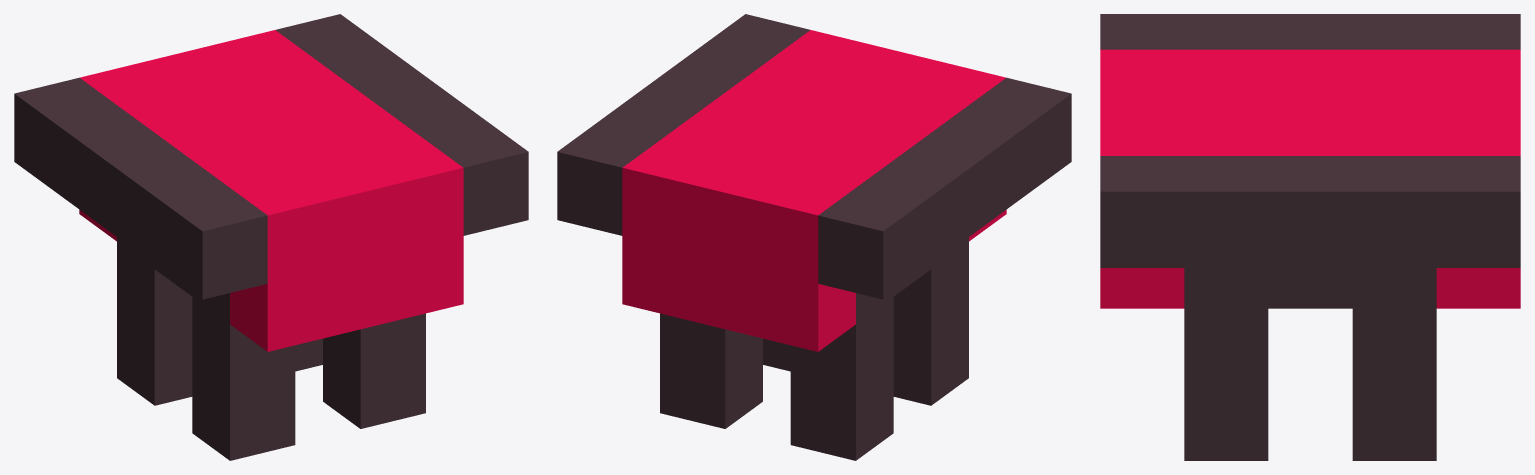
Rendered from small_bench_c_red.obj.
3 views of the same model, side by side, from view 1: azimuth 30°, elevation 25°; view 2: azimuth 150°, elevation 25°; view 3: azimuth 270°, elevation 25° (orthographic). The views are drawn at different scales.
Bounding box in the file's own units: 0.5 × 0.4 × 0.5.
1 material, 1 textured.
